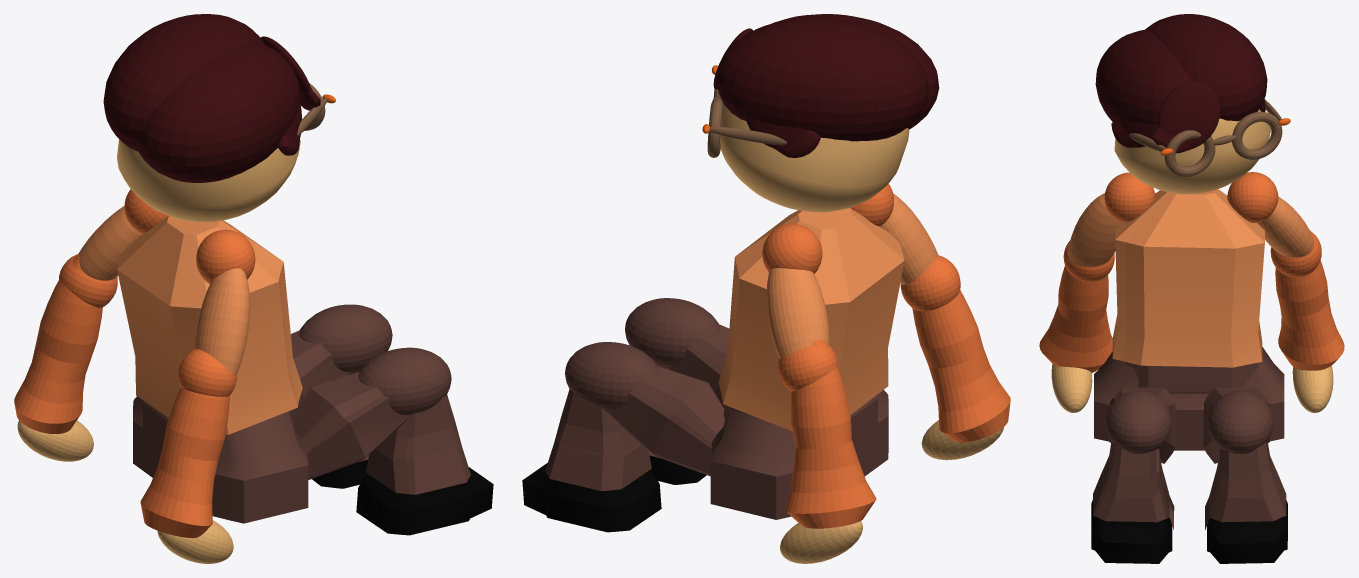
File: dude sitting with glasses.fbx
3 renders of one model, left to right at view 1: azimuth 30°, elevation 25°; view 2: azimuth 150°, elevation 25°; view 3: azimuth 270°, elevation 25°, orthographic. The views are drawn at different scales.
Visible parts, largest first — view 1: Cube.043, Sphere.196, Sphere.197, trousers.014, Cube.045, Sphere.183, Sphere.192, Sphere.189, Sphere.184, Cube.044, Cube.046, Sphere.185 (+10 smaller); view 2: Cube.043, Sphere.197, Sphere.184, Sphere.189, Cube.045, Sphere.192, Sphere.183, trousers.014, Cube.044, Cube.046, Sphere.188, Sphere.193 (+11 smaller); view 3: Cube.043, Cube.044, Sphere.197, Cube.046, Sphere.192, Sphere.196, trousers.014, Sphere.184, Sphere.183, Sphere.189, Sphere.198, trousers.012 (+12 smaller).
Part boxes in pixels (x1,y1,x2,y2): Cube.043: (117,216,302,434); Sphere.196: (136,42,300,182); Sphere.197: (103,14,264,151); trousers.014: (133,396,308,523); Cube.045: (291,330,412,479); Sphere.183: (140,387,229,537); Sphere.192: (299,304,451,415); Sphere.189: (14,254,102,433); Sphere.184: (117,139,300,222); Cube.044: (350,371,470,494); Cube.046: (312,459,493,535); Sphere.185: (194,268,249,375); Cube.043: (718,208,904,431); Sphere.197: (716,17,929,141); Sphere.184: (720,97,909,212); Sphere.189: (785,339,876,528); Cube.045: (604,324,729,476); Sphere.192: (565,298,719,410); Sphere.183: (912,289,1010,442); trousers.014: (710,390,888,519); Cube.044: (545,366,667,491); Cube.046: (522,455,706,532); Sphere.188: (766,268,829,358); Sphere.193: (780,521,862,563); Cube.043: (1112,189,1264,367); Cube.044: (1093,442,1286,529); Sphere.197: (1145,14,1267,121); Cube.046: (1091,500,1287,563); Sphere.192: (1105,391,1273,454); Sphere.196: (1095,29,1192,124); trousers.014: (1094,347,1284,450); Sphere.184: (1114,109,1270,194); Sphere.183: (1039,266,1112,372); Sphere.189: (1275,260,1344,370); Sphere.198: (1152,82,1220,153); trousers.012: (1122,361,1258,393).
Bounding box in the file's own units: 433 × 578 × 368.
